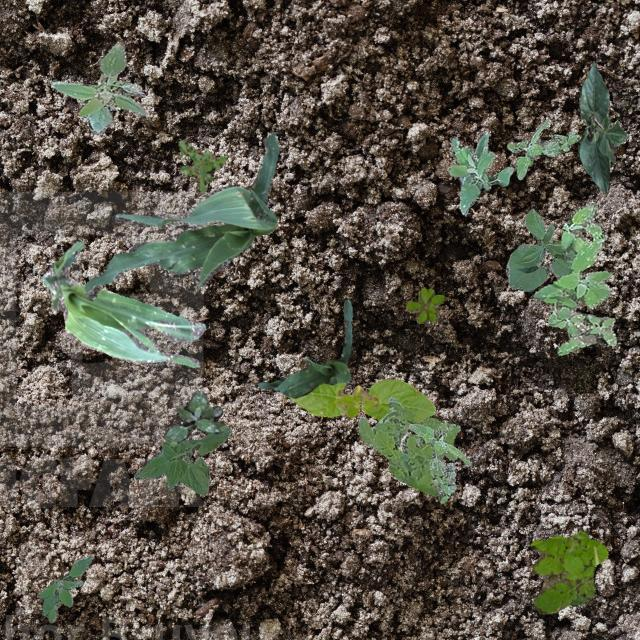crop: (84, 130, 278, 300), (42, 242, 205, 366), (256, 298, 352, 396), (132, 426, 230, 494), (576, 61, 626, 192), (288, 378, 434, 422), (504, 208, 570, 290)
weed: (532, 200, 616, 354), (356, 396, 459, 494), (50, 41, 146, 132), (530, 530, 608, 614), (448, 130, 512, 214), (408, 422, 470, 502), (506, 118, 580, 178), (38, 554, 92, 622), (162, 390, 224, 444), (178, 138, 225, 192), (404, 286, 444, 322)
